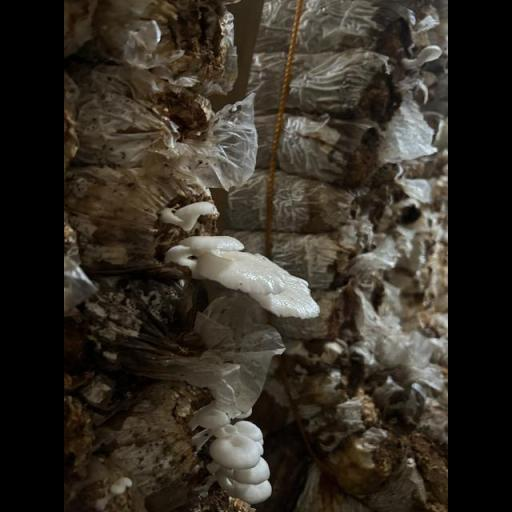White Oyster Mushroom: (132, 190, 325, 329), (184, 395, 281, 505)
